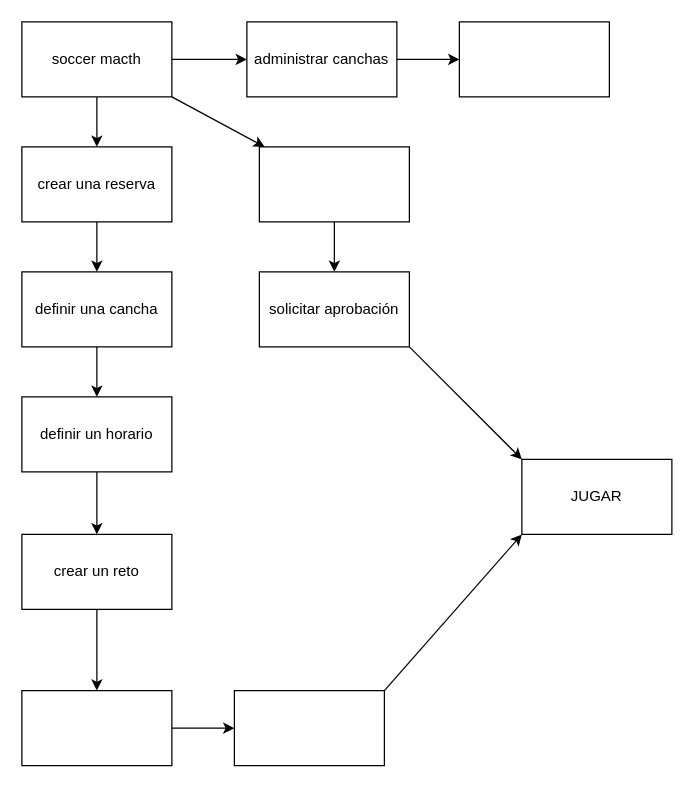
Image size: 694x788. Some labels were removed from this diagram. The centre of each missing label's shape, as x and y in pixels:
buscar reto: the point at 333,184
editar información, horarios, datos importante: the point at 533,59
esperar un equipo: the point at 308,727
publicar reto: the point at 96,727
